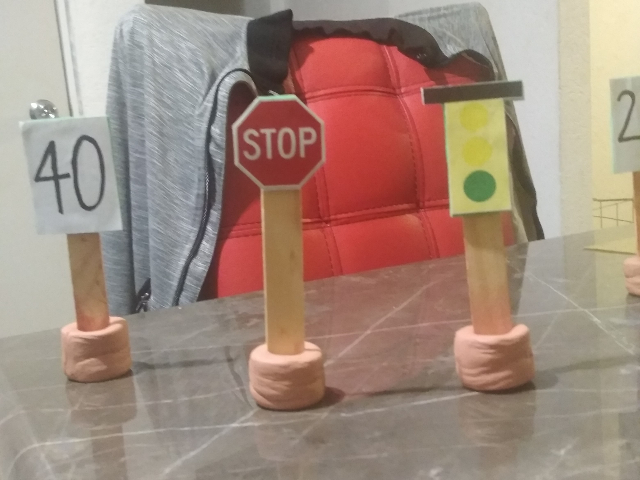Green Traffic Light: (419, 78, 525, 215)
Speed Limit 40: (16, 116, 129, 238)
Stop Sign: (231, 93, 328, 192)
